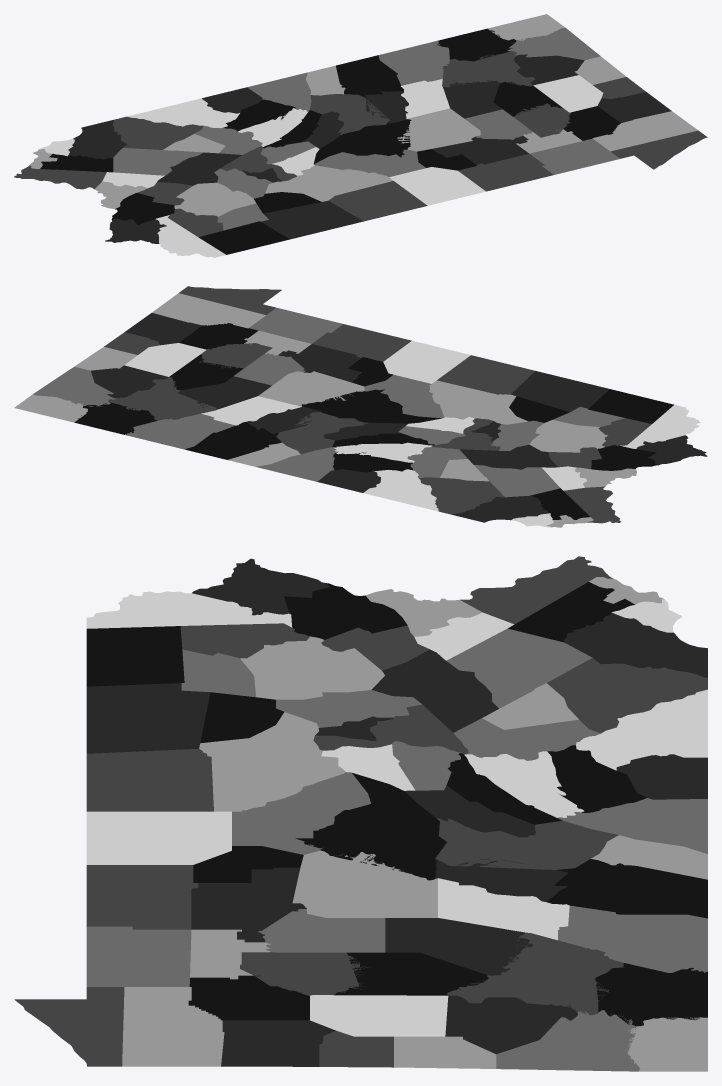
The model's file is Pennsylvania_Counties_2D.fbx.
3 views of the same model, one above another, from view 1: azimuth 30°, elevation 25°; view 2: azimuth 150°, elevation 25°; view 3: azimuth 270°, elevation 25° (orthographic). The views are drawn at different scales.
Visible parts, largest first — view 1: PA_Lycoming_County_2D, PA_Centre_County_2D, PA_Bradford_County_2D, PA_Clearfield_County_2D, PA_Tioga_County_2D, PA_Potter_County_2D, PA_Crawford_County_2D, PA_Westmoreland_County_2D, PA_Somerset_County_2D, PA_McKean_County_2D, PA_Lancaster_County_2D, PA_Bedford_County_2D (+52 smaller); view 2: PA_Lycoming_County_2D, PA_Centre_County_2D, PA_Bradford_County_2D, PA_Tioga_County_2D, PA_Clearfield_County_2D, PA_Potter_County_2D, PA_Westmoreland_County_2D, PA_Crawford_County_2D, PA_Somerset_County_2D, PA_McKean_County_2D, PA_Lancaster_County_2D, PA_Bedford_County_2D (+52 smaller); view 3: PA_Lycoming_County_2D, PA_Centre_County_2D, PA_Bradford_County_2D, PA_Tioga_County_2D, PA_Clearfield_County_2D, PA_Potter_County_2D, PA_Crawford_County_2D, PA_Somerset_County_2D, PA_Westmoreland_County_2D, PA_McKean_County_2D, PA_Bedford_County_2D, PA_Lancaster_County_2D (+55 smaller).
Boxes of the visible parts, box(x1,y1,x2,y2) form: PA_Lycoming_County_2D: box(265, 165, 393, 201); PA_Centre_County_2D: box(313, 119, 411, 163); PA_Bradford_County_2D: box(261, 200, 363, 239); PA_Clearfield_County_2D: box(397, 108, 480, 151); PA_Tioga_County_2D: box(328, 181, 427, 221); PA_Potter_County_2D: box(389, 167, 485, 205); PA_Crawford_County_2D: box(592, 111, 698, 151); PA_Westmoreland_County_2D: box(442, 51, 535, 87); PA_Somerset_County_2D: box(378, 41, 449, 85); PA_McKean_County_2D: box(458, 153, 553, 191); PA_Lancaster_County_2D: box(113, 116, 203, 149); PA_Bedford_County_2D: box(336, 55, 403, 97); PA_Lycoming_County_2D: box(429, 380, 527, 424); PA_Centre_County_2D: box(301, 389, 441, 423); PA_Bradford_County_2D: box(511, 371, 609, 411); PA_Tioga_County_2D: box(437, 355, 535, 394); PA_Clearfield_County_2D: box(258, 371, 364, 406); PA_Potter_County_2D: box(383, 340, 470, 383); PA_Westmoreland_County_2D: box(108, 377, 217, 420); PA_Crawford_County_2D: box(152, 293, 265, 328); PA_Somerset_County_2D: box(125, 413, 235, 449); PA_McKean_County_2D: box(312, 324, 411, 361); PA_Lancaster_County_2D: box(419, 477, 504, 514); PA_Bedford_County_2D: box(184, 422, 281, 459); PA_Lycoming_County_2D: box(199, 712, 345, 811); PA_Centre_County_2D: box(295, 773, 446, 880); PA_Bradford_County_2D: box(86, 683, 210, 753); PA_Tioga_County_2D: box(86, 748, 213, 811); PA_Clearfield_County_2D: box(292, 850, 437, 917); PA_Potter_County_2D: box(86, 811, 231, 864); PA_Crawford_County_2D: box(122, 987, 224, 1066); PA_Somerset_County_2D: box(558, 905, 707, 972); PA_Westmoreland_County_2D: box(447, 932, 623, 1015); PA_McKean_County_2D: box(86, 865, 198, 929); PA_Bedford_County_2D: box(547, 859, 707, 918); PA_Lancaster_County_2D: box(547, 658, 707, 733).
Bounding box in the file's own units: 868 × 0 × 494.
